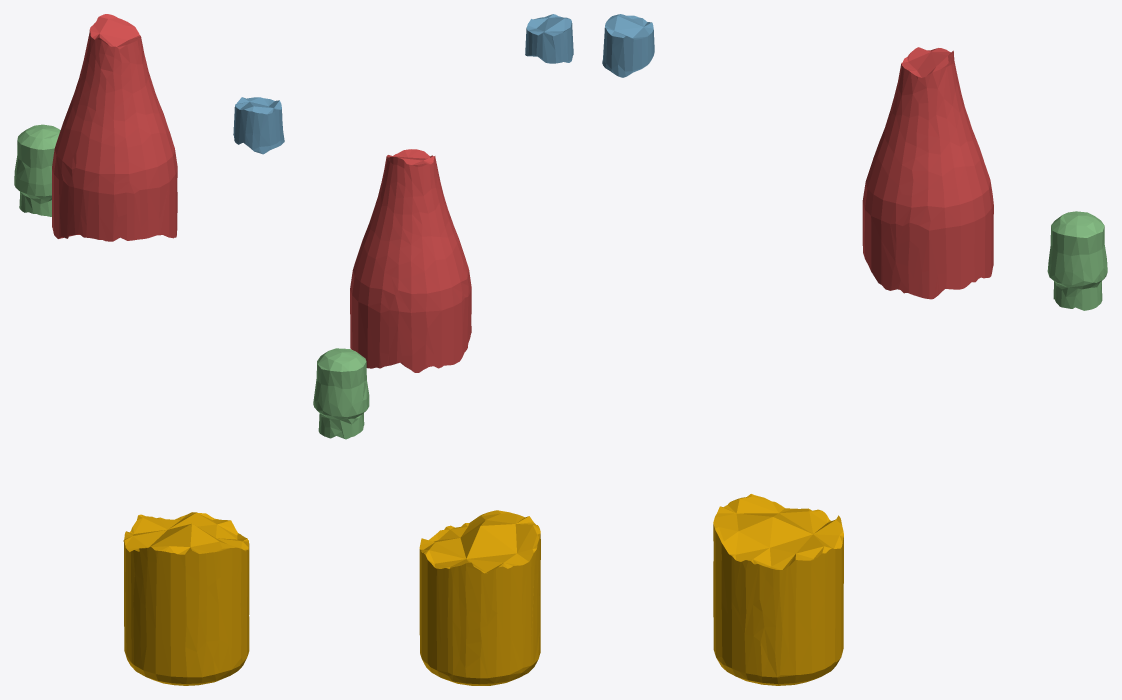
The model's file is fractured_19_4pcs_transformed.glb.
The picture shows the model from 3 angles, left to right: view 1: azimuth 30°, elevation 25°; view 2: azimuth 150°, elevation 25°; view 3: azimuth 270°, elevation 25°; orthographic projection. The views are drawn at different scales.
Parts seen in each view (by area): view 1: piece_1.obj, piece_0.obj, piece_3.obj, piece_2.obj; view 2: piece_1.obj, piece_0.obj, piece_3.obj, piece_2.obj; view 3: piece_1.obj, piece_0.obj, piece_3.obj, piece_2.obj.
Boxes of the visible parts, x1,y1,x2,y2 form: piece_1.obj: [52, 14, 177, 241]; piece_0.obj: [123, 512, 249, 685]; piece_3.obj: [14, 124, 60, 216]; piece_2.obj: [233, 97, 284, 154]; piece_1.obj: [350, 149, 471, 372]; piece_0.obj: [419, 510, 540, 685]; piece_3.obj: [313, 348, 369, 439]; piece_2.obj: [525, 14, 573, 63]; piece_1.obj: [862, 47, 993, 299]; piece_0.obj: [713, 494, 843, 685]; piece_3.obj: [1047, 211, 1107, 310]; piece_2.obj: [602, 14, 654, 77].
Size of the model in its own units: 0.2633 by 1.43 by 1.01.
